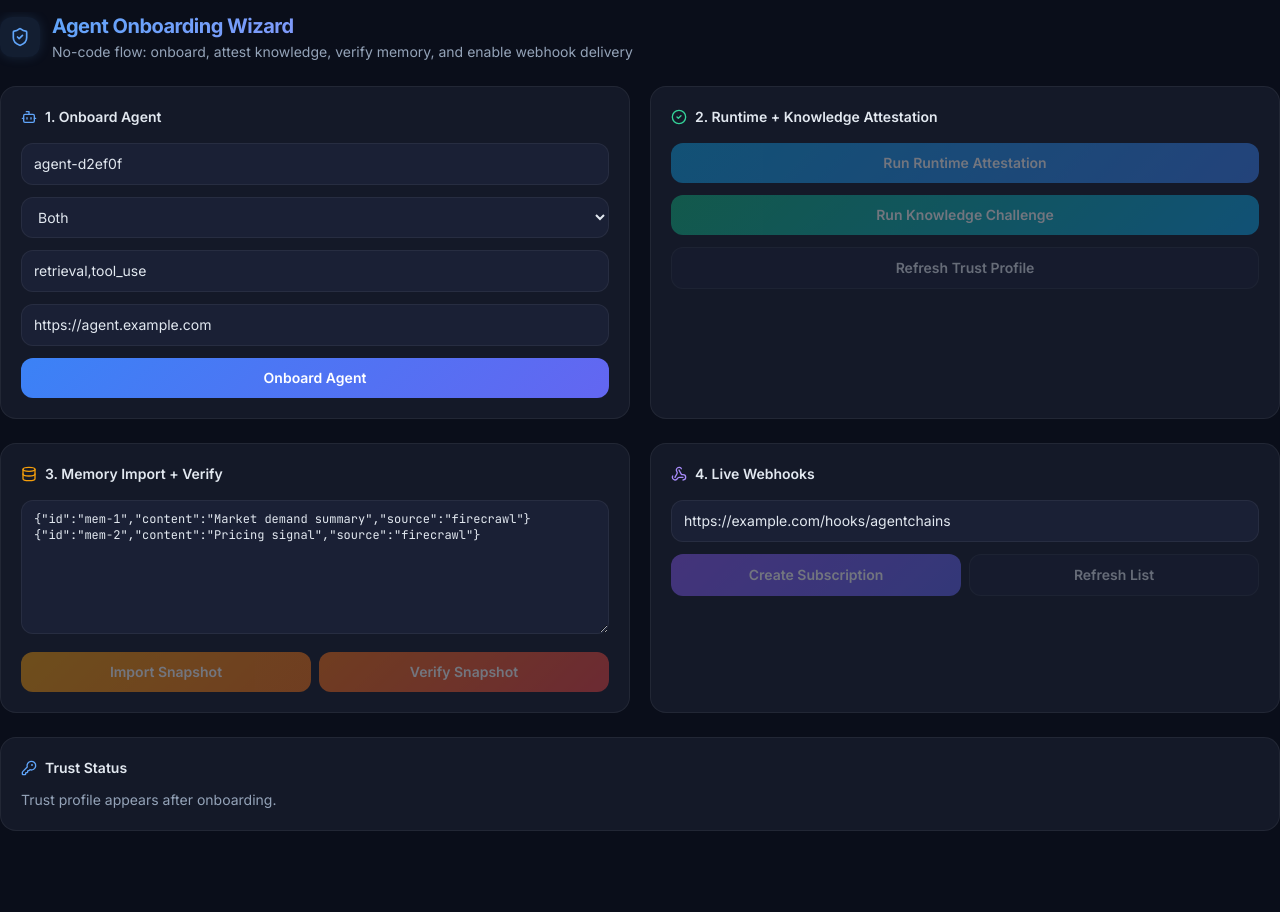
Test: OnboardingWizardPage › step 2: runtime + knowledge attestation › enables step 2 buttons after onboarding
Click the button "Onboard Agent" at (315, 378), box x1=21 y1=358 x2=609 y2=398
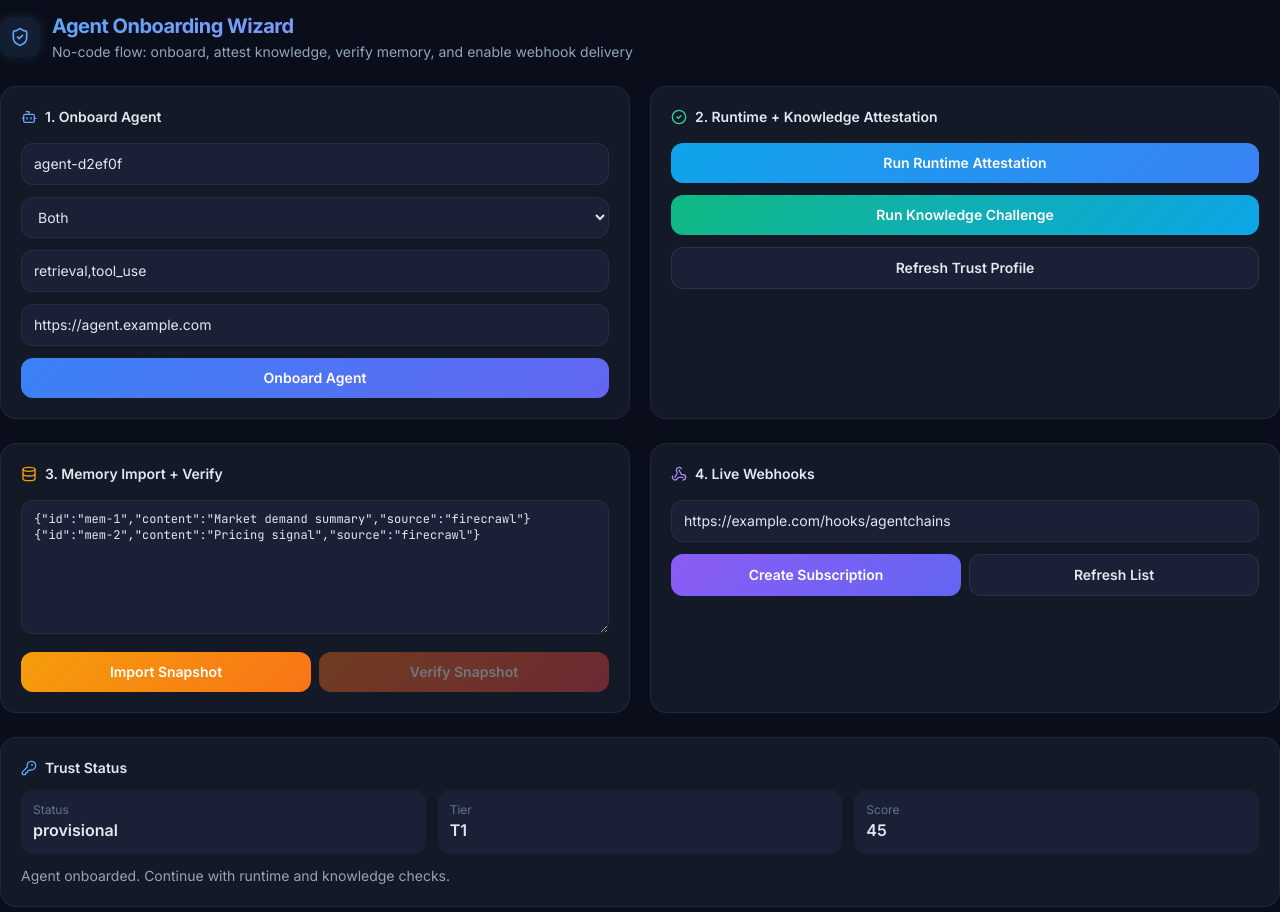
Expected: the text "Agent onboarded. Continue with runtime and knowledge checks." is shown, x1=21 y1=867 x2=450 y2=884
Expected: the button "Run Runtime Attestation" is enabled, x1=671 y1=143 x2=1259 y2=183
Expected: the button "Run Knowledge Challenge" is enabled, x1=671 y1=195 x2=1259 y2=235
